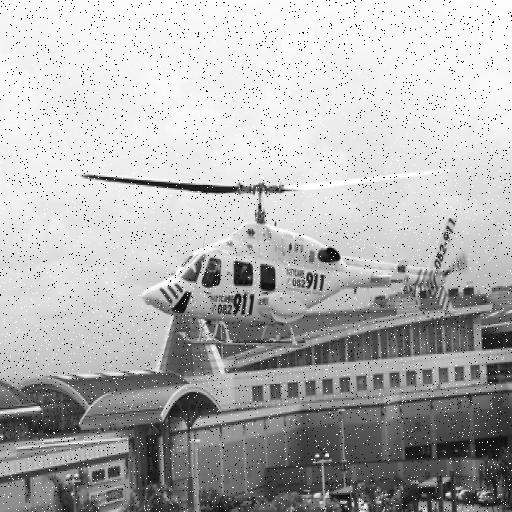helicopter: (84, 150, 477, 358)
